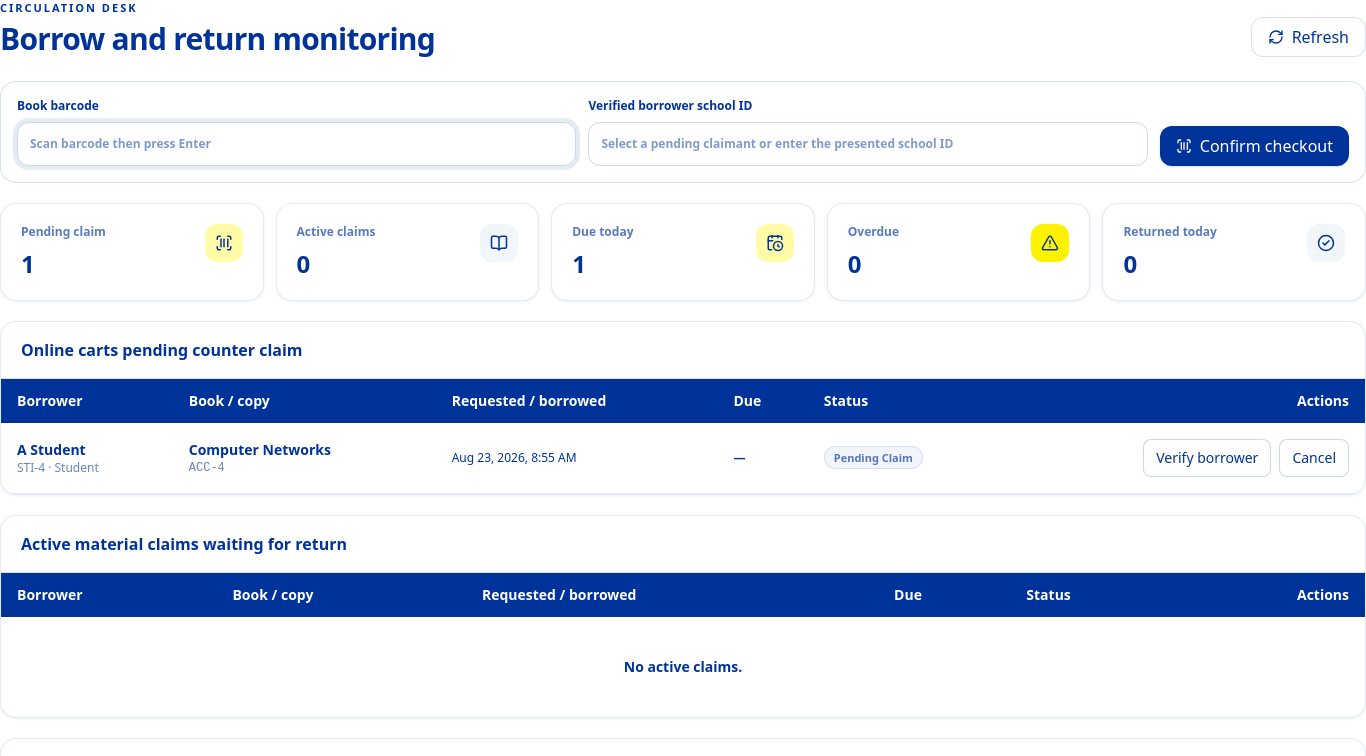
AdminCirculationMonitor › cancels a pending claim and removes it from the admin lane without a page reload
This screenshot has width=1366, height=756.
Check: the text "Computer Networks" is shown, box [189, 440, 331, 458]
Click the button "Cancel": (1314,458) [1279, 438, 1349, 476]
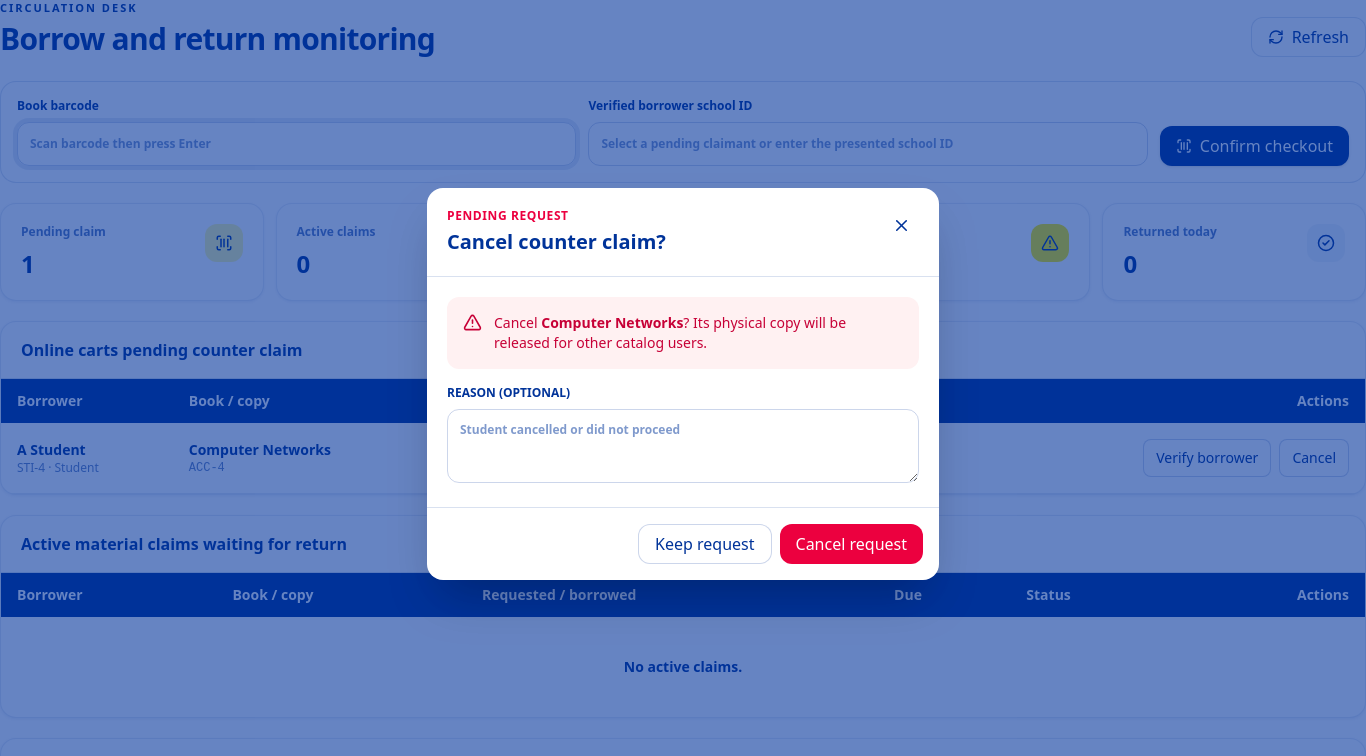
Click the button "Cancel request": (851,544) [780, 524, 923, 564]
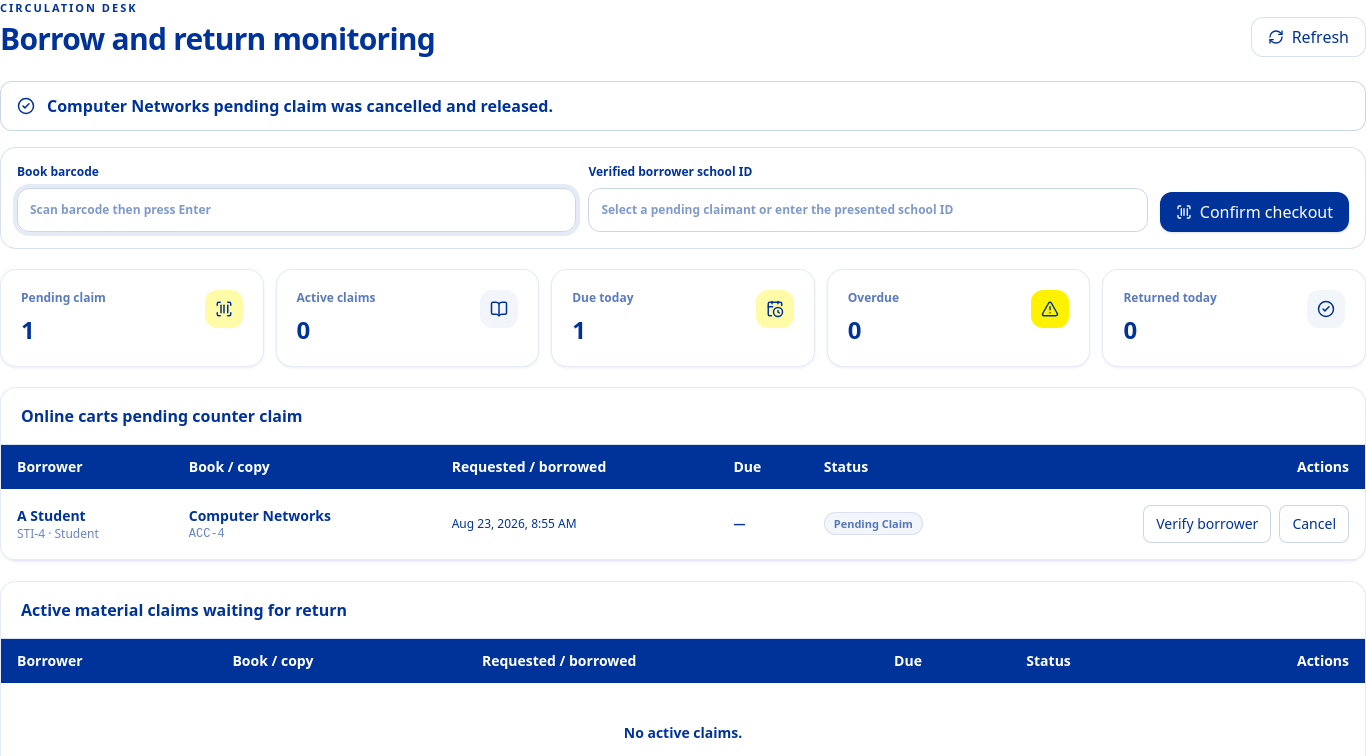
Check: the text "Computer Networks pending claim was cancelled and released." is shown, box [0, 80, 1365, 130]
